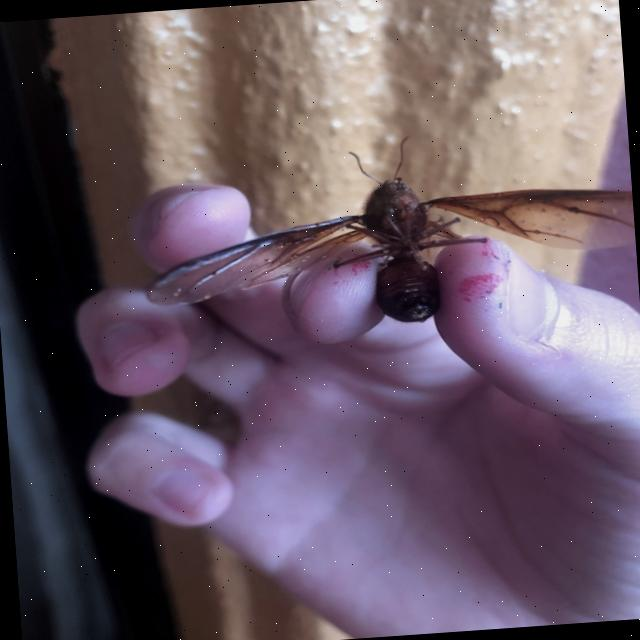Alive-Male-Alate: (137, 119, 640, 340)
